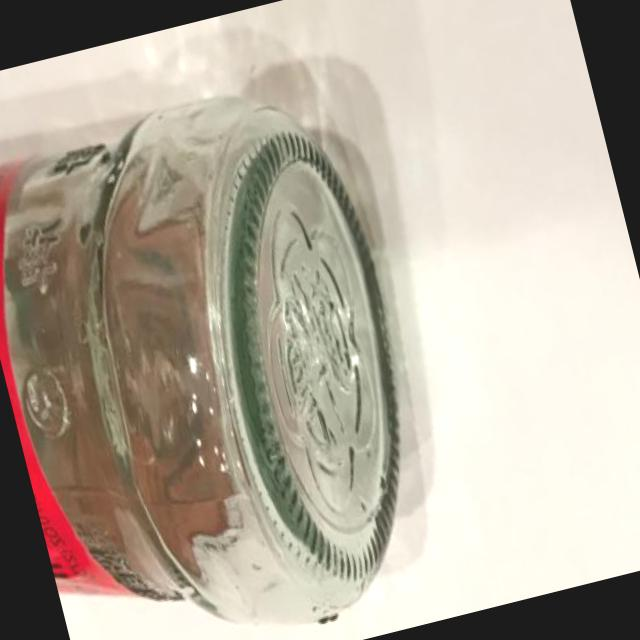chai_thuy_tinh: (0, 55, 432, 625), (0, 84, 399, 623), (0, 94, 400, 623)
